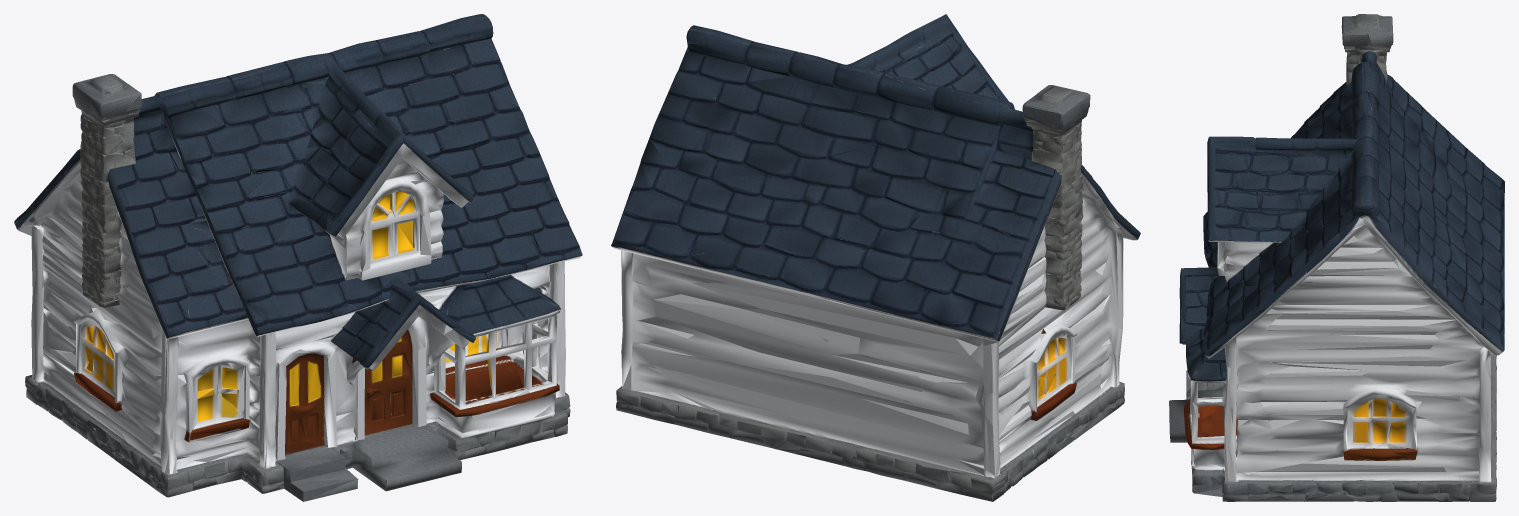
Rendered from cottage2.fbx.
The picture shows the model from 3 angles, left to right: view 1: azimuth 30°, elevation 25°; view 2: azimuth 150°, elevation 25°; view 3: azimuth 270°, elevation 25°; orthographic projection. The views are drawn at different scales.
Visible parts, largest first — view 1: Mesh_0; view 2: Mesh_0; view 3: Mesh_0.
Part boxes in pixels (left/top/right/bottom): Mesh_0: left=14, top=14, right=582, bottom=501; Mesh_0: left=611, top=14, right=1140, bottom=501; Mesh_0: left=1169, top=14, right=1504, bottom=501.
Bounding box in the file's own units: 190 × 164 × 155.
Materials: 1 (1 with a texture image).
